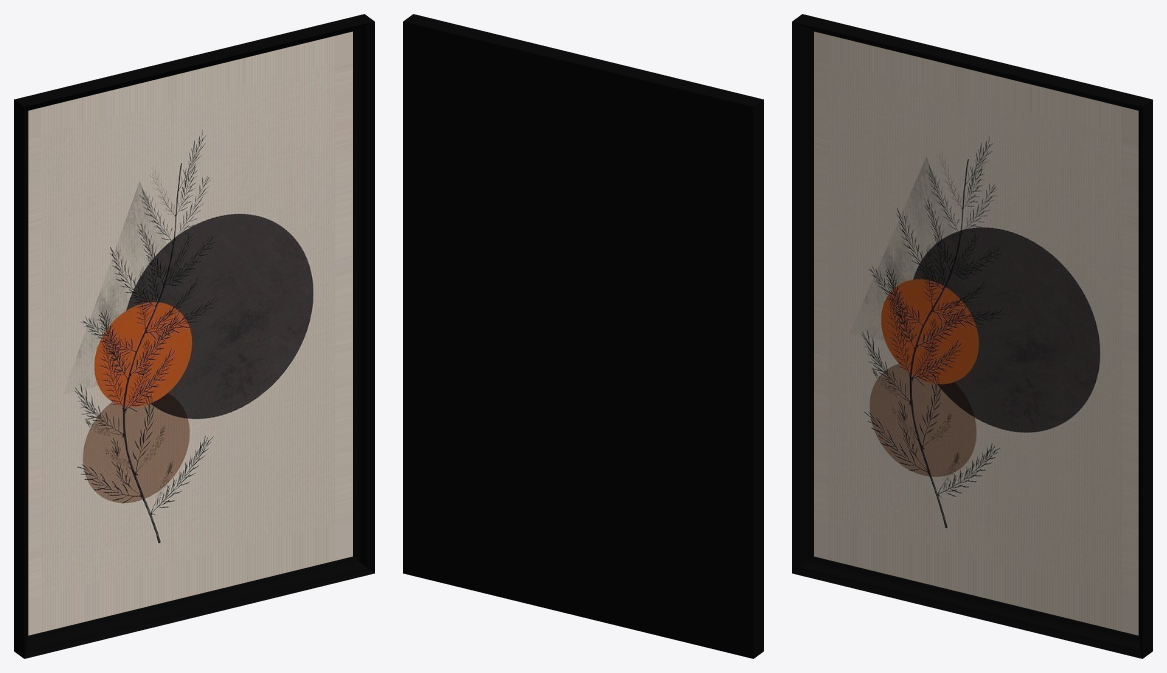
File: paintingModel3.glb
3 renders of one model, left to right at view 1: azimuth 30°, elevation 25°; view 2: azimuth 150°, elevation 25°; view 3: azimuth 330°, elevation 25°, orthographic.
Visible parts, largest first — view 1: NurbsPath.029, NurbsPath.027, NurbsPath.028; view 2: NurbsPath.028; view 3: NurbsPath.029, NurbsPath.027, NurbsPath.028.
Part boxes in pixels (<box>): NurbsPath.029: <box>28,31,352,635</box>; NurbsPath.027: <box>24,21,374,658</box>; NurbsPath.028: <box>14,14,374,658</box>; NurbsPath.028: <box>403,14,763,658</box>; NurbsPath.029: <box>814,31,1138,635</box>; NurbsPath.027: <box>792,21,1142,658</box>; NurbsPath.028: <box>792,14,1152,658</box>.
Bounding box in the file's own units: 0.0451 × 0.0679 × 0.0023.
Materials: 3 (1 with a texture image).
